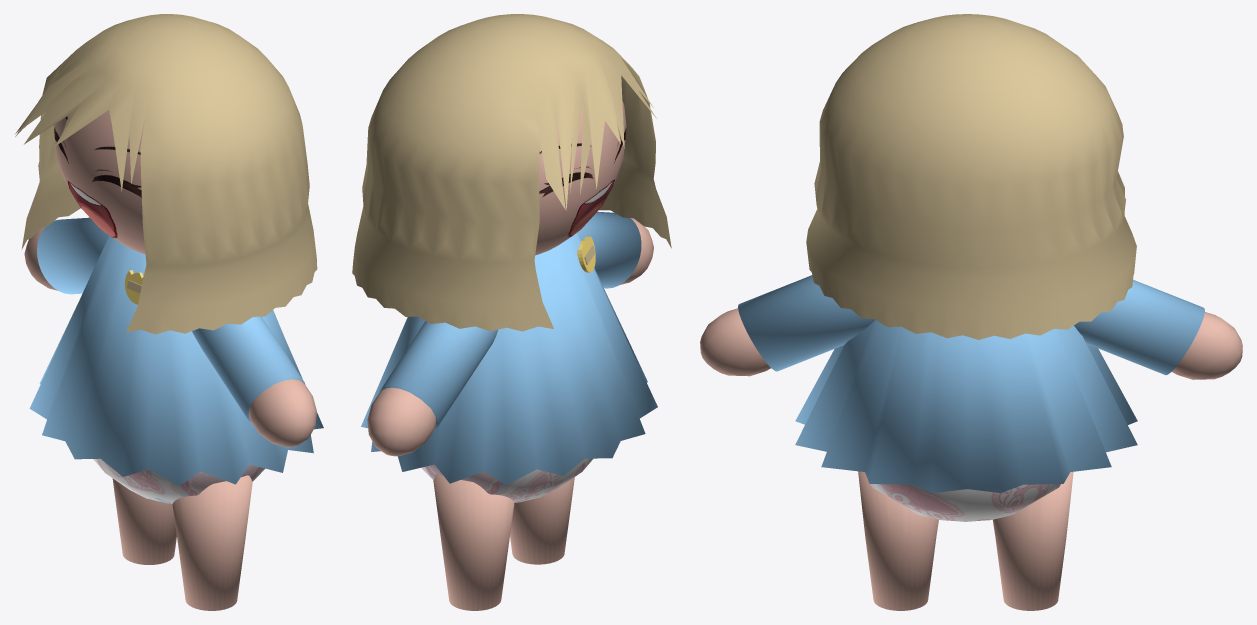
Rendered from diaperlyssadoll.glb.
The picture shows the model from 3 angles, left to right: view 1: azimuth 30°, elevation 25°; view 2: azimuth 150°, elevation 25°; view 3: azimuth 270°, elevation 25°; orthographic projection. The views are drawn at different scales.
Visible parts, largest first — view 1: head.006, head.003, head.004, head.001, head; view 2: head.006, head.003, head.004, head.001, head, head.005; view 3: head.006, head.003, head.004, head.
Part boxes in pixels (x1,y1,x2,y2): head.006: [15, 14, 317, 334]; head.003: [29, 217, 323, 485]; head.004: [24, 227, 316, 610]; head.001: [54, 110, 145, 254]; head: [93, 458, 264, 503]; head.006: [352, 14, 671, 331]; head.003: [361, 211, 657, 484]; head.004: [367, 218, 653, 610]; head.001: [535, 100, 626, 255]; head: [421, 458, 593, 502]; head.005: [577, 236, 595, 272]; head.006: [806, 14, 1136, 339]; head.003: [738, 275, 1204, 492]; head.004: [700, 308, 1242, 610]; head: [863, 472, 1060, 521].
Bounding box in the file's own units: 2.59 × 5.49 × 4.75.
Materials: 6 (2 with a texture image).
